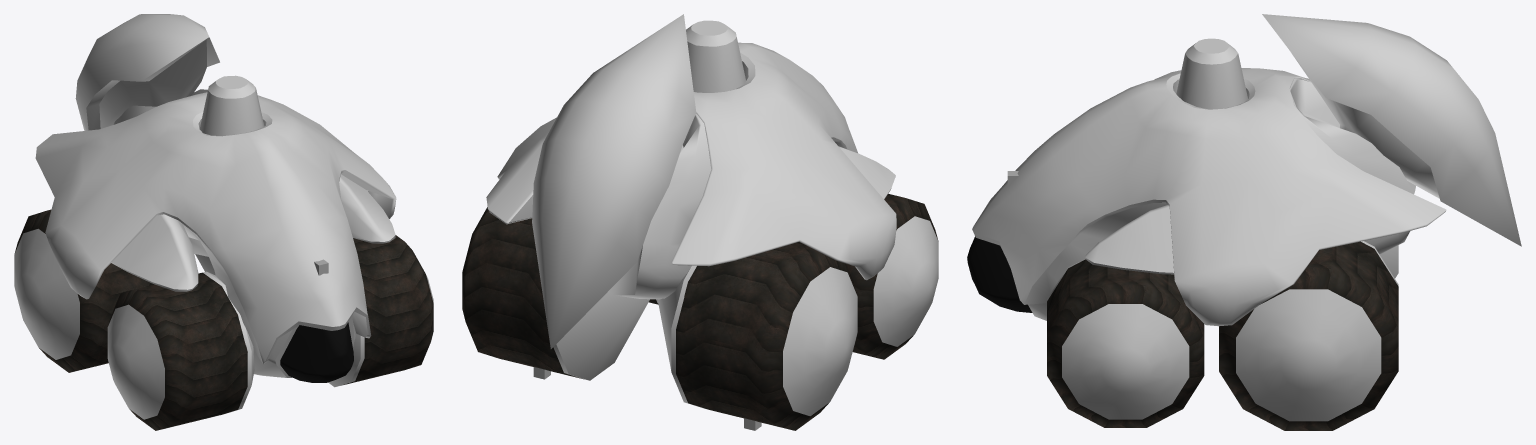
Rendered from evscav00.fbx.
3 views of the same model, side by side, from view 1: azimuth 30°, elevation 25°; view 2: azimuth 150°, elevation 25°; view 3: azimuth 270°, elevation 25° (orthographic). The views are drawn at different scales.
Visible parts, largest first — view 1: mainbody, tractor_r, tread_r, pump, tractor_l, cockpit, Siphon_head, tread_l; view 2: mainbody, pump, tractor_r, tread_r, tractor_l, tread_l, Siphon_head; view 3: mainbody, tread_l, pump, tractor_l, Siphon_head, cockpit.
Part boxes in pixels (bbox=[...]): mainbody: bbox=[35, 89, 396, 377]; tractor_r: bbox=[14, 209, 247, 430]; tread_r: bbox=[14, 228, 254, 419]; pump: bbox=[75, 14, 219, 130]; tractor_l: bbox=[341, 235, 433, 385]; cockpit: bbox=[280, 322, 353, 382]; Siphon_head: bbox=[199, 75, 264, 136]; tread_l: bbox=[195, 254, 433, 387]; mainbody: bbox=[486, 42, 896, 299]; pump: bbox=[532, 14, 696, 348]; tractor_r: bbox=[676, 193, 938, 430]; tread_r: bbox=[657, 216, 938, 416]; tractor_l: bbox=[462, 207, 658, 379]; tread_l: bbox=[464, 241, 658, 380]; Siphon_head: bbox=[686, 20, 745, 92]; mainbody: bbox=[972, 68, 1446, 326]; tread_l: bbox=[1047, 241, 1398, 421]; pump: bbox=[1262, 14, 1521, 246]; tractor_l: bbox=[1047, 241, 1398, 430]; Siphon_head: bbox=[1176, 38, 1247, 109]; cockpit: bbox=[967, 236, 1032, 312].
Size of the model in its own units: 6.75 by 6.23 by 8.88.
